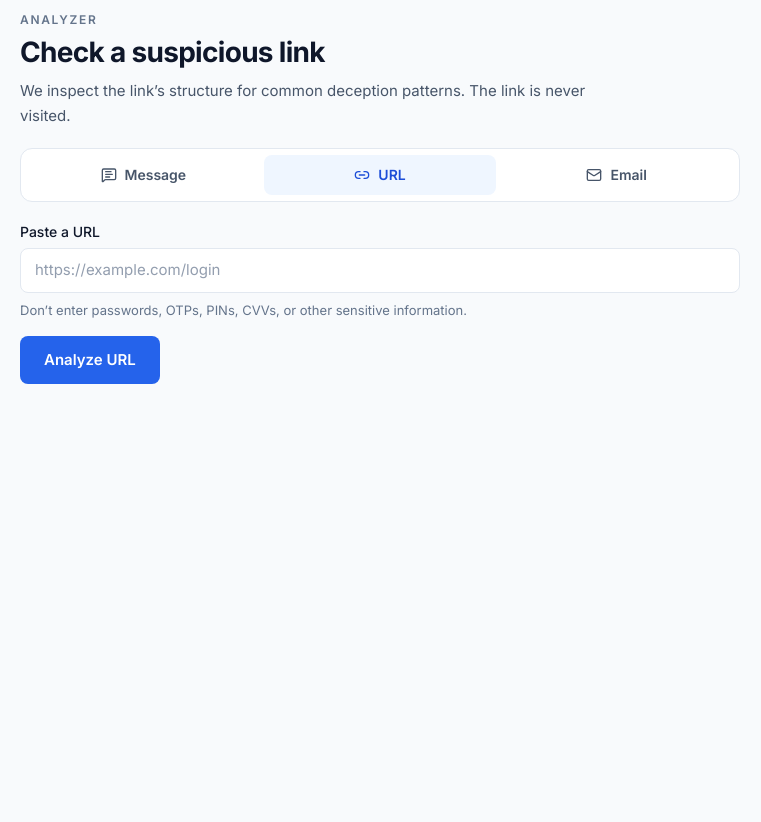
Test case: analyzer page › URL tab analyzes and renders technical details
The image size is (761, 822).
Expected: the heading "Check a suspicious link" is shown, [20,35,325,69]
Step 1. Type "http://example.com/login" into the field → (380, 270), box [20,248,740,293]
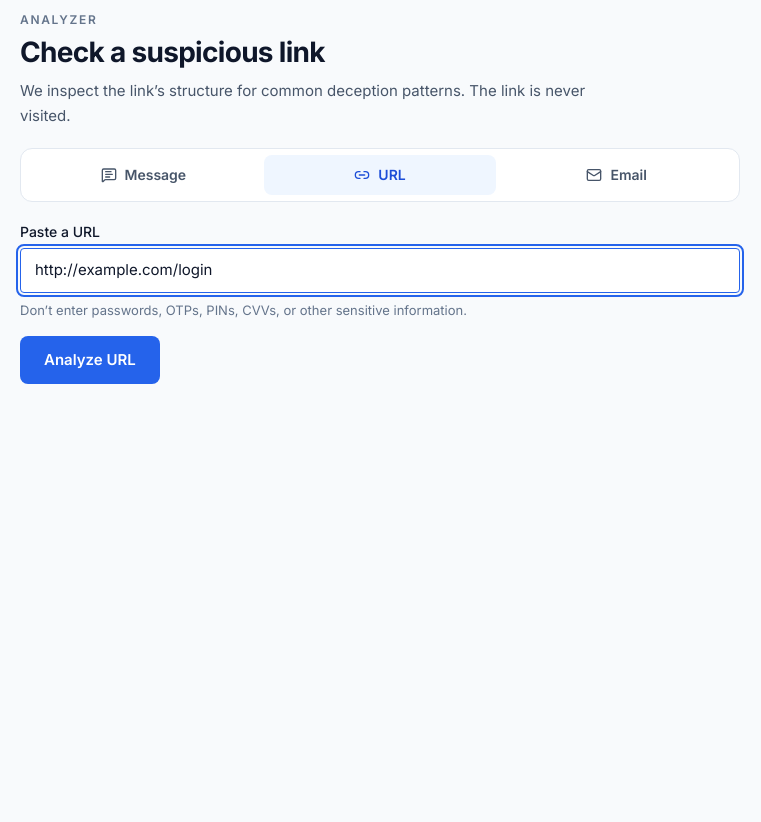
Step 2. Click the button "Analyze URL" → (90, 360), box [20,336,160,384]
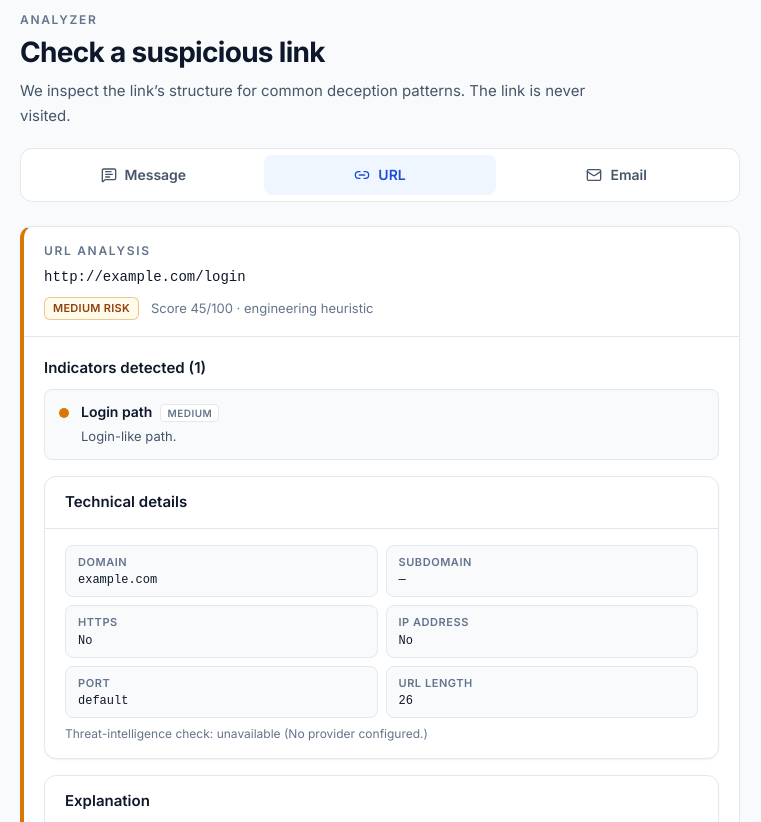
Result: the text "URL analysis" is shown at [44,243,151,258]
Result: the heading "Technical details" is shown at [65,491,187,514]
Result: the text "Threat-intelligence check: unavailable" is shown at [65,726,288,741]
